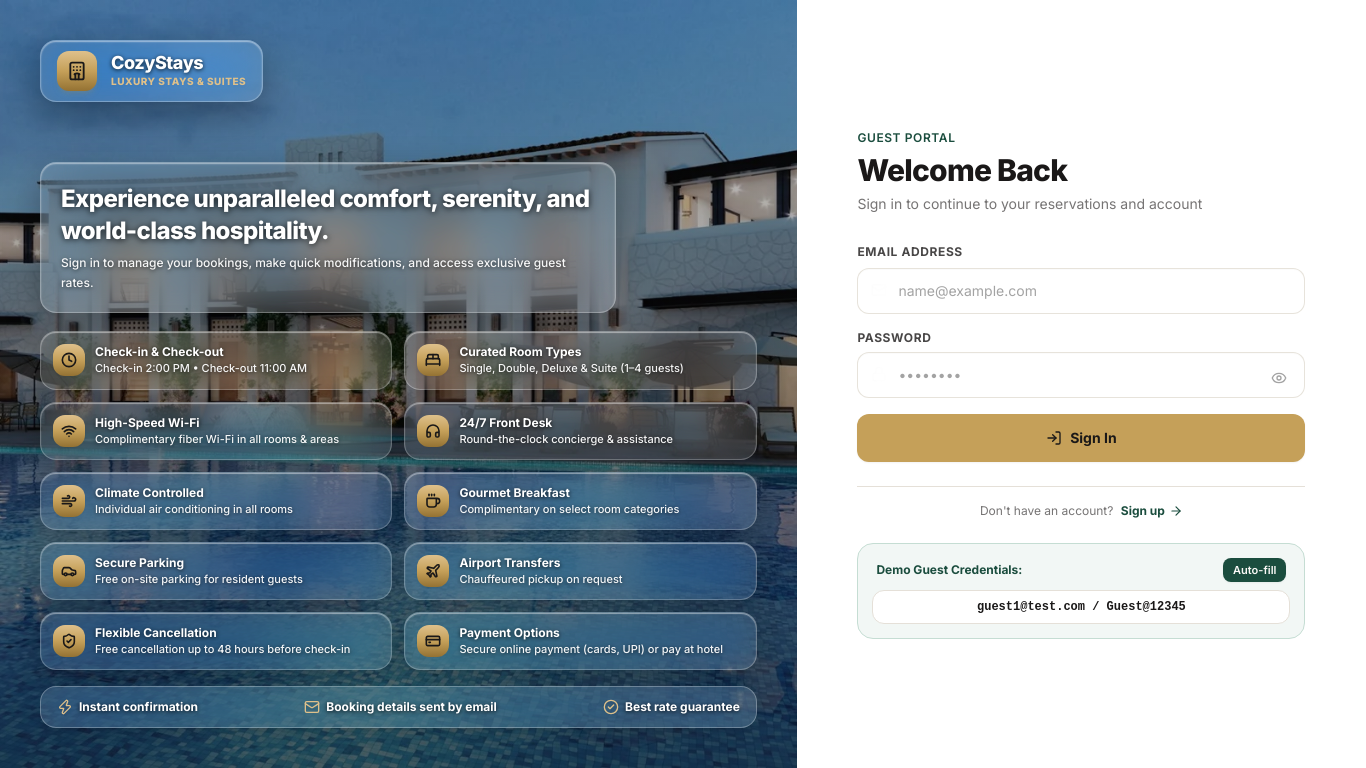
it: Login Page › displays error banner when authentication fails with bad credentials
The width and height of the screenshot is (1366, 768).
Type "guest@example.com" into the field labelled "Email Address" at (1081, 290), box [857, 268, 1305, 314]
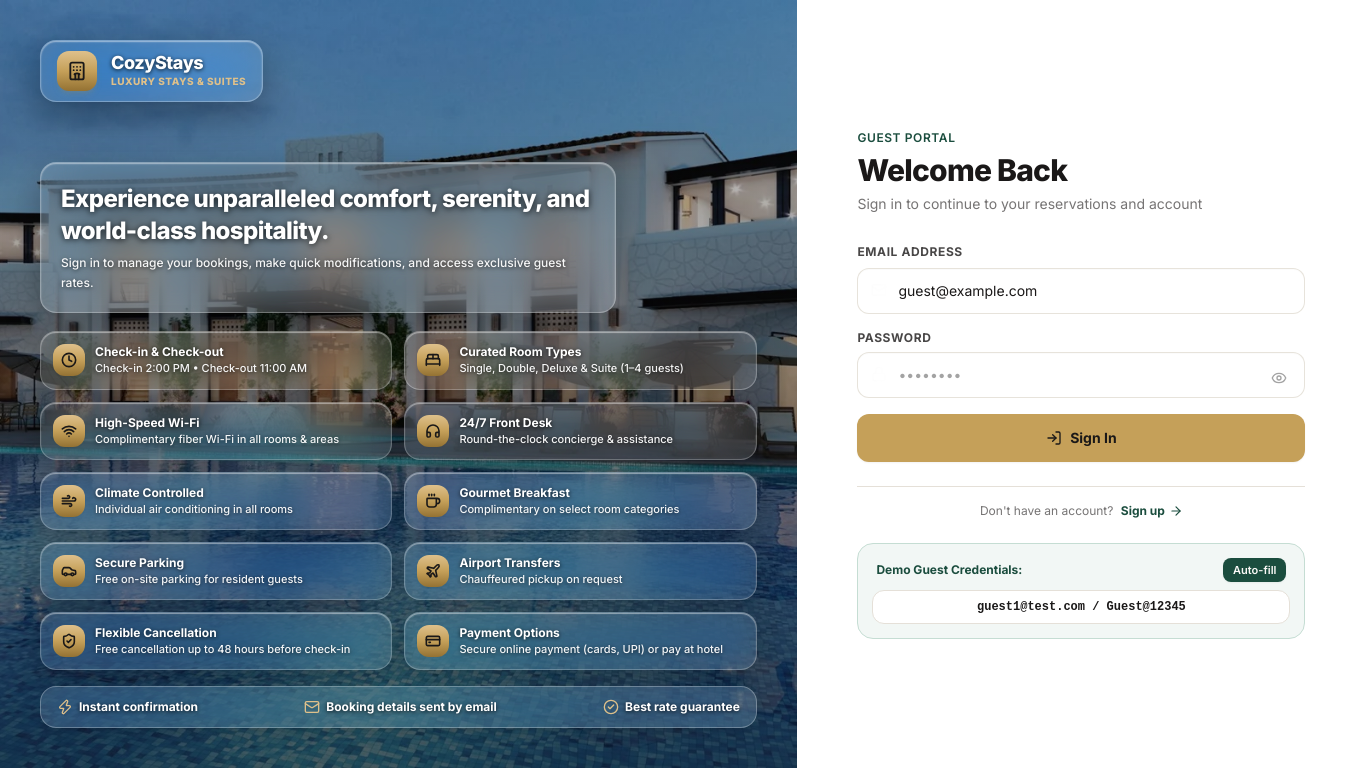
Type "WrongPassword" into the password field labelled "Password" at (1081, 374), box [857, 352, 1305, 398]
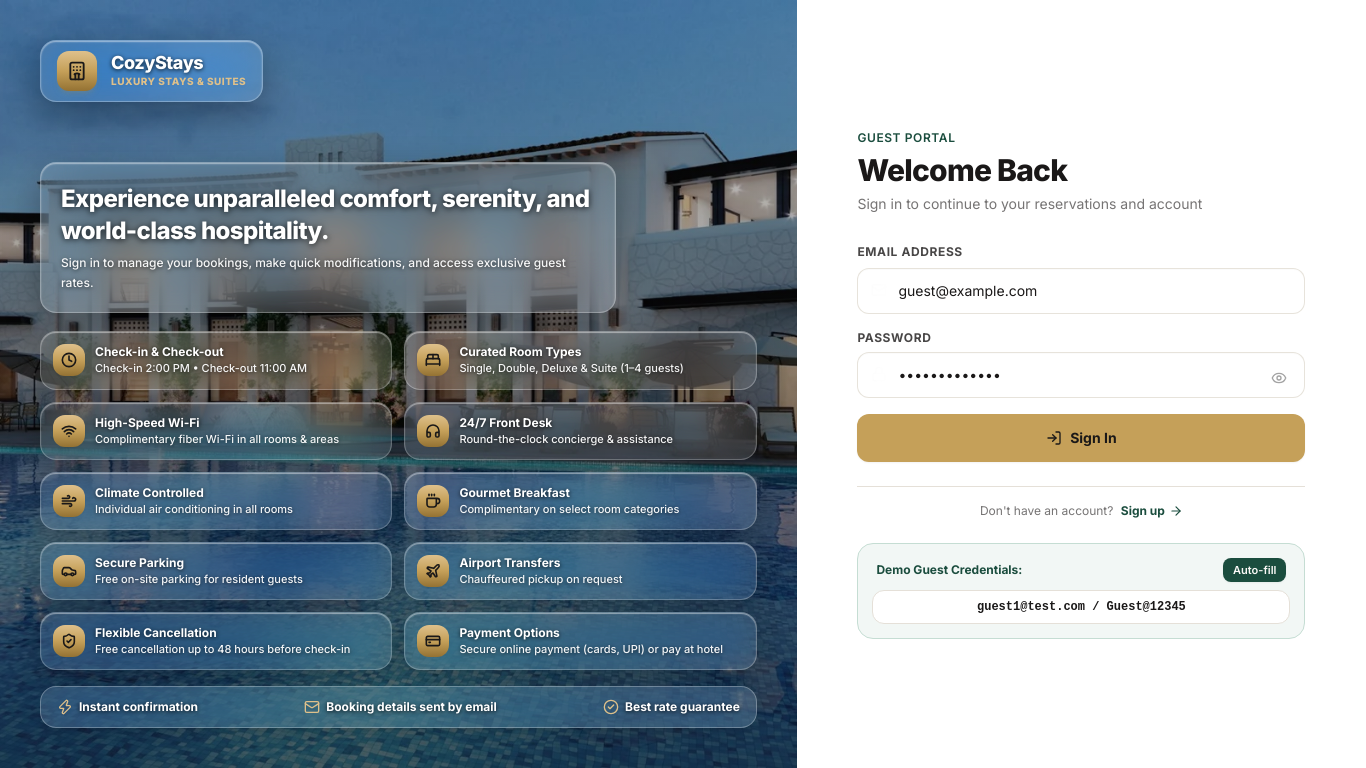
Click the button "Sign In" at (1081, 438), box [857, 414, 1305, 462]
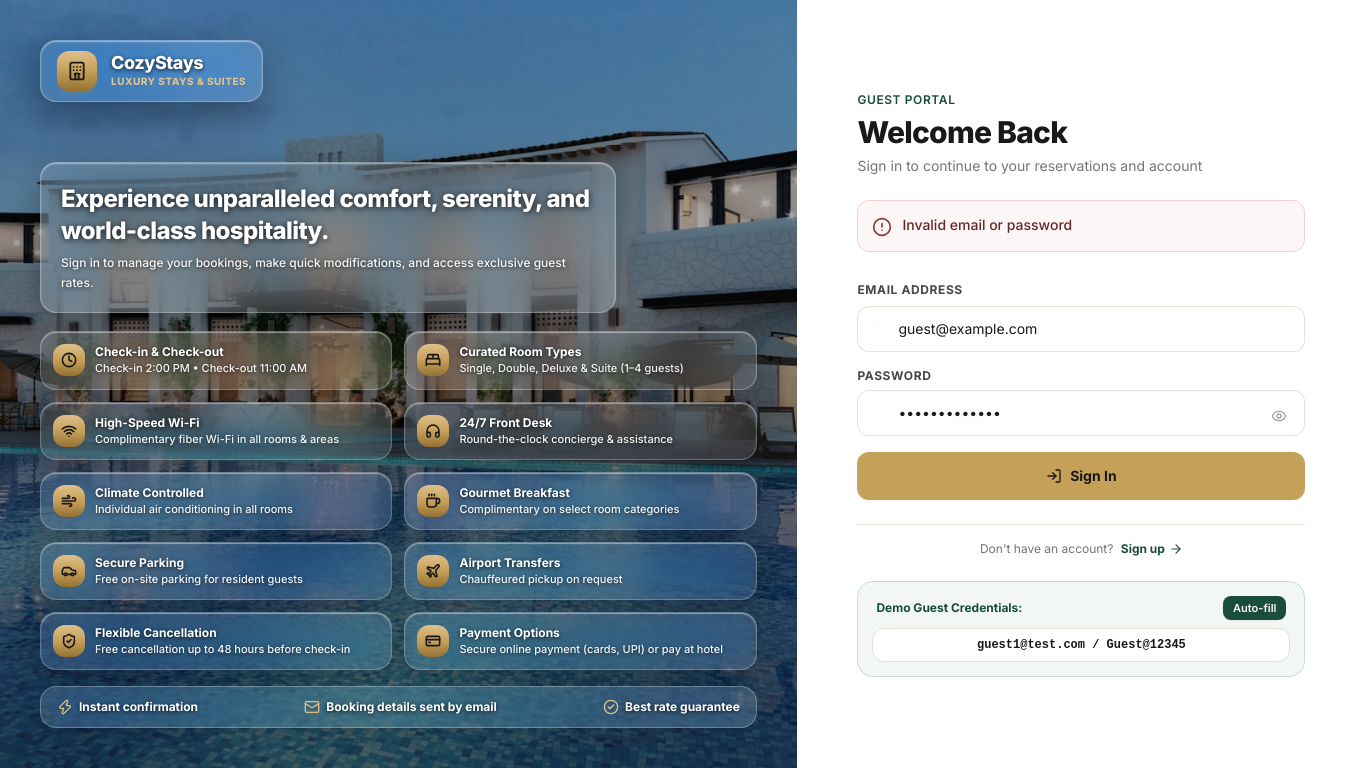
Now the message "Invalid email or password" is shown, box [857, 200, 1305, 252]
Now the message reads "Invalid email or password", box [902, 216, 1072, 232]
